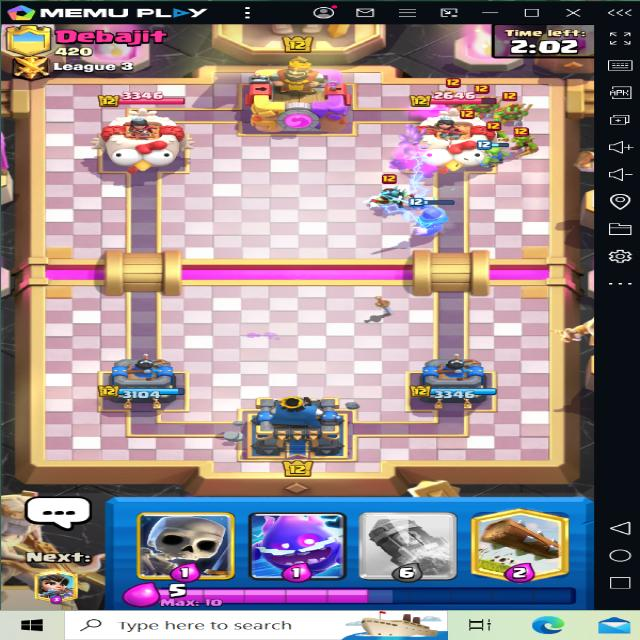electro-wizard: (356, 170, 408, 215)
goblin: (511, 122, 537, 149), (484, 120, 504, 148)
spear-goblin: (432, 79, 471, 107), (469, 87, 500, 115), (502, 98, 530, 126)
